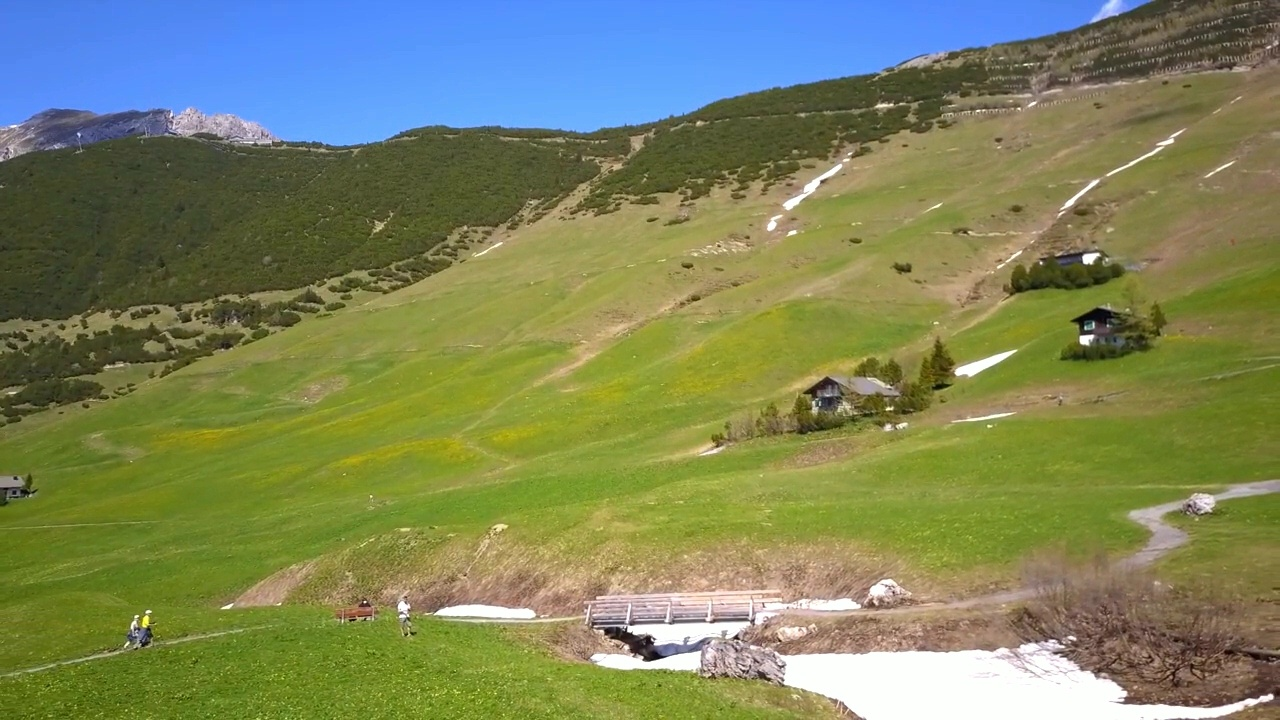insan: (395, 595, 415, 639), (125, 613, 146, 650), (140, 604, 154, 645)
